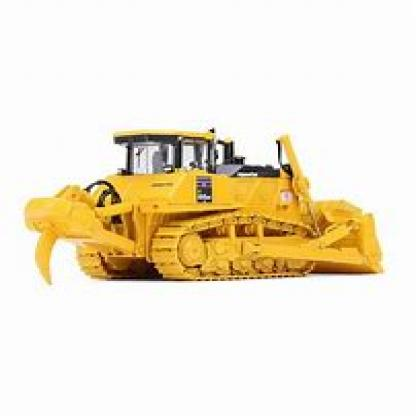bull_dozer/loader/grader: (15, 120, 396, 287)
